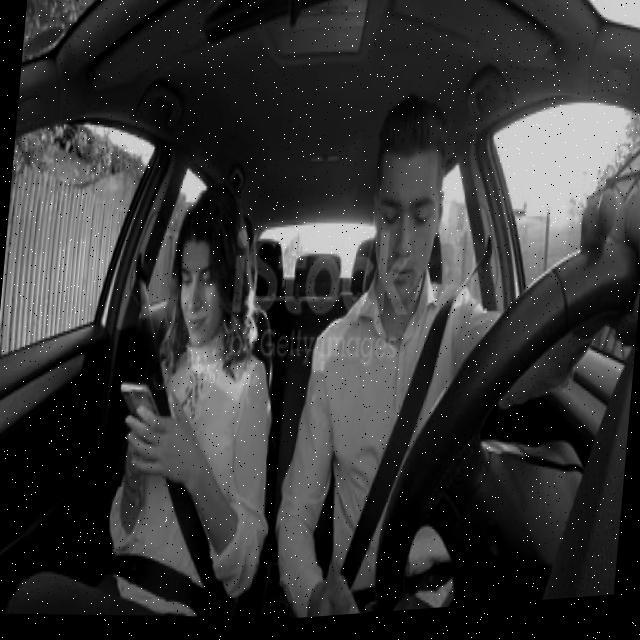PhoneCall: (114, 376, 161, 435)
